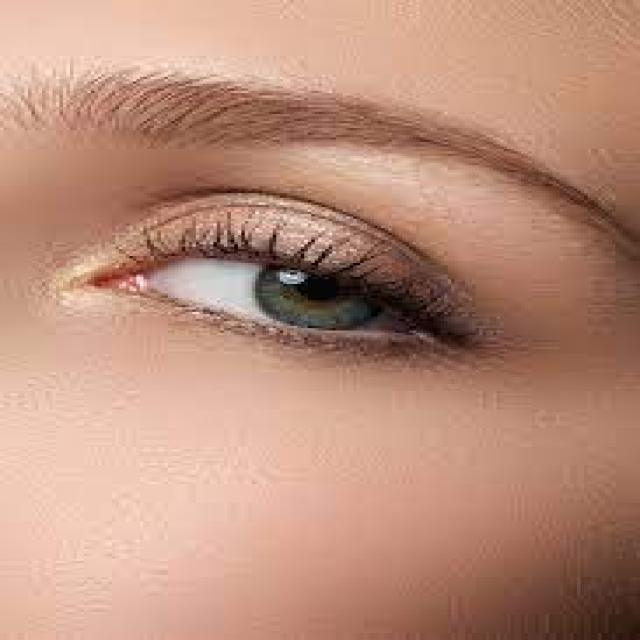Eyes-iris: (251, 254, 383, 332)
